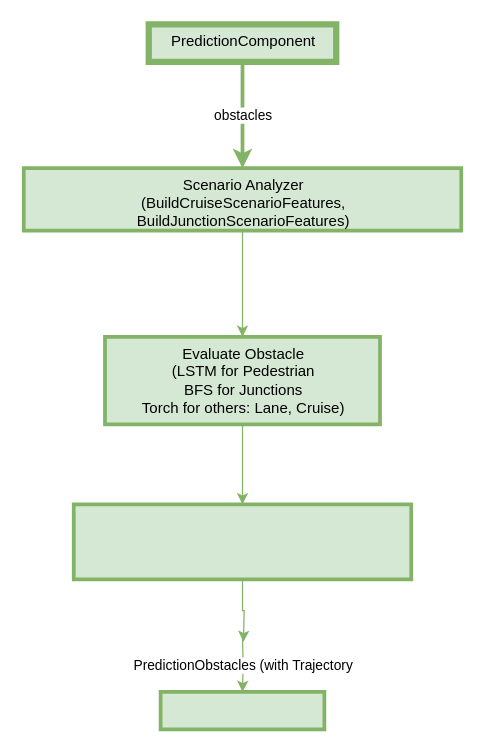
Some shapes in this 484 by 753 pixel diagram are drawn without their labels. Each missing label, with the box of its shape:
Planning Component: (158, 689, 326, 731)
Predict (GenerateMovingTrajectory TrimTrajectory): (71, 502, 412, 581)
